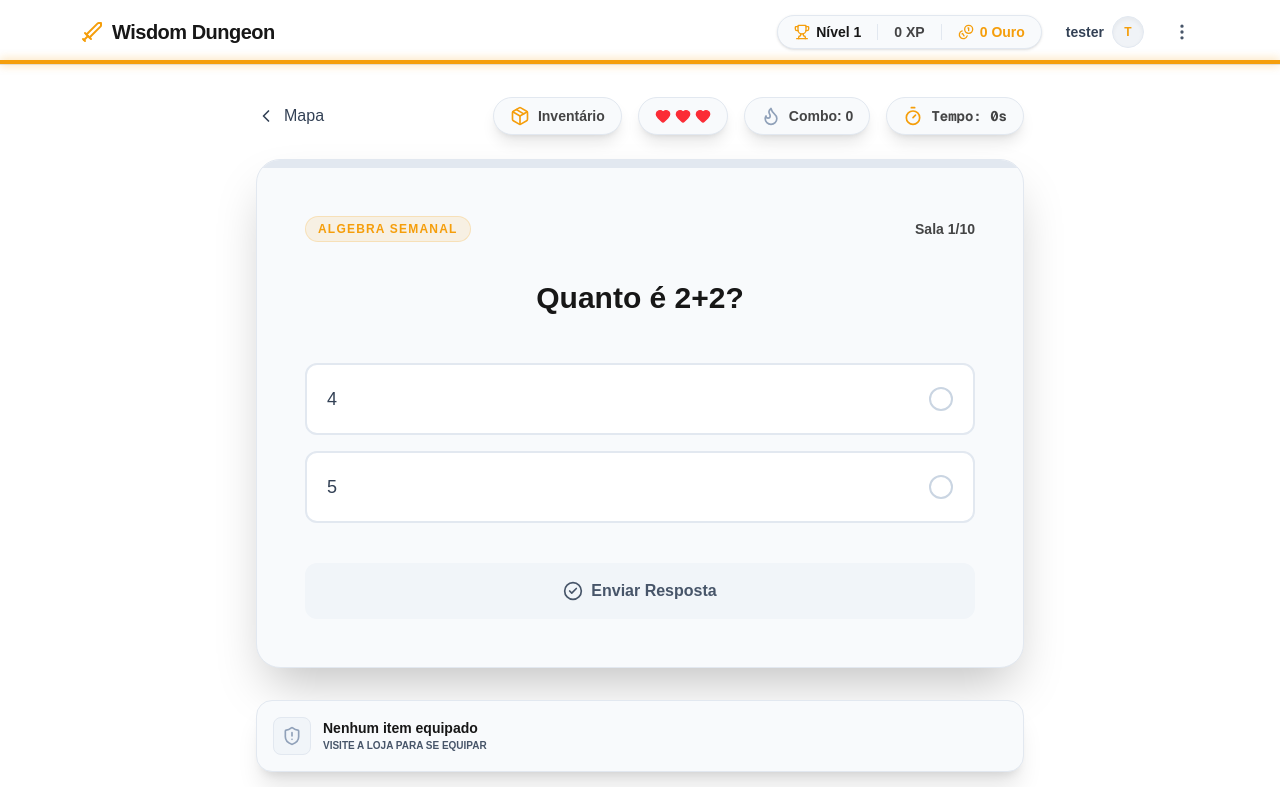
Test: DungeonPage HUD v2 › exibe a resposta correta em caso de erro
Step 1. Click the button "5" → coordinates (332, 487), box [305,451,975,523]
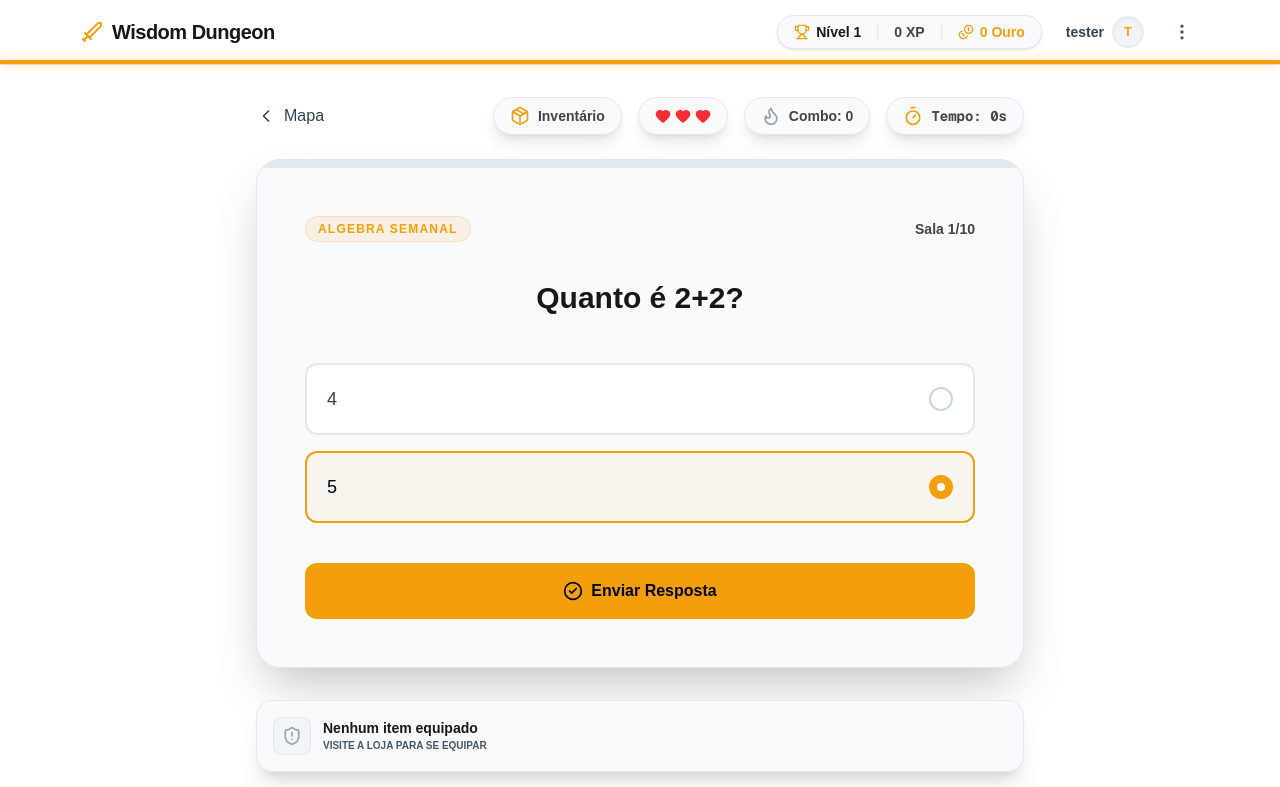
Step 2. Click the button "Enviar Resposta" → coordinates (640, 591), box [305,563,975,619]
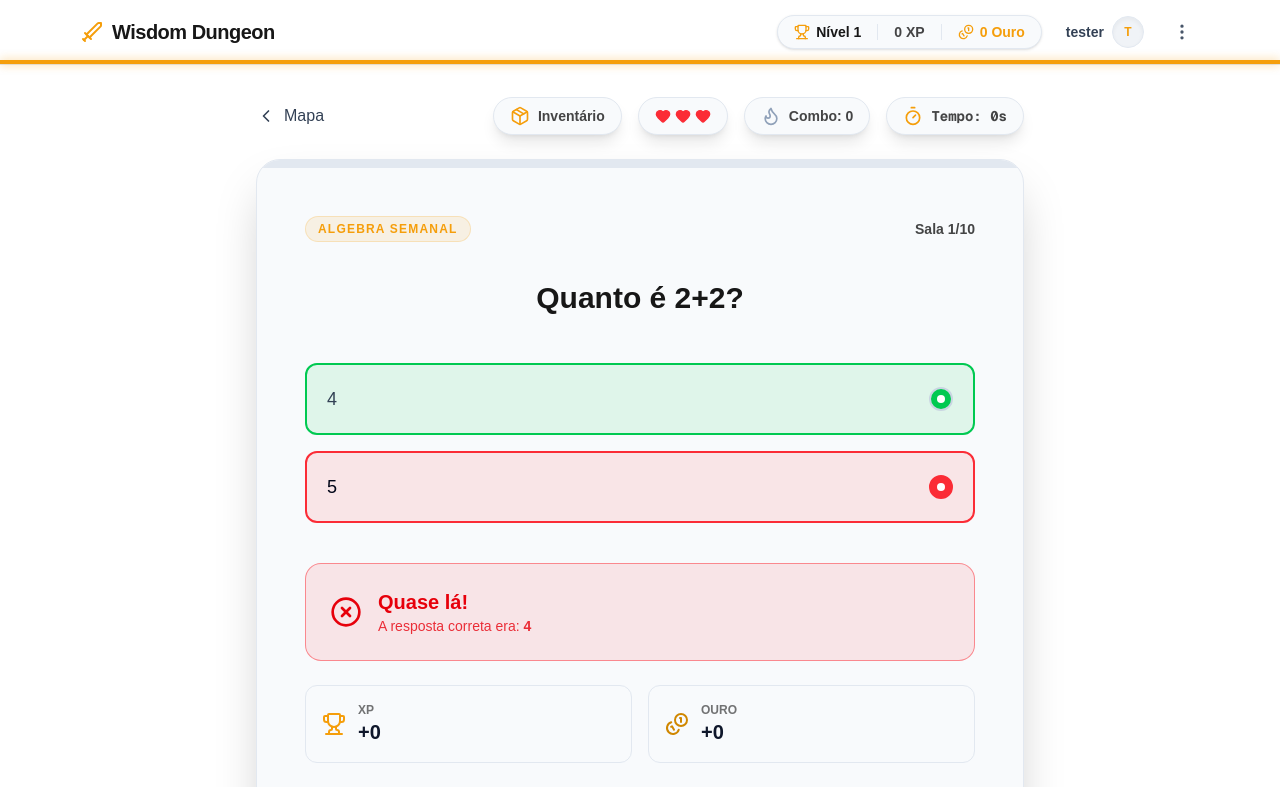
Expected: the text "A resposta correta era: 4" is shown, [378,616,531,636]
Expected: the text "4" is shown 2 times, [327,389,337,409]; [524,618,531,634]
